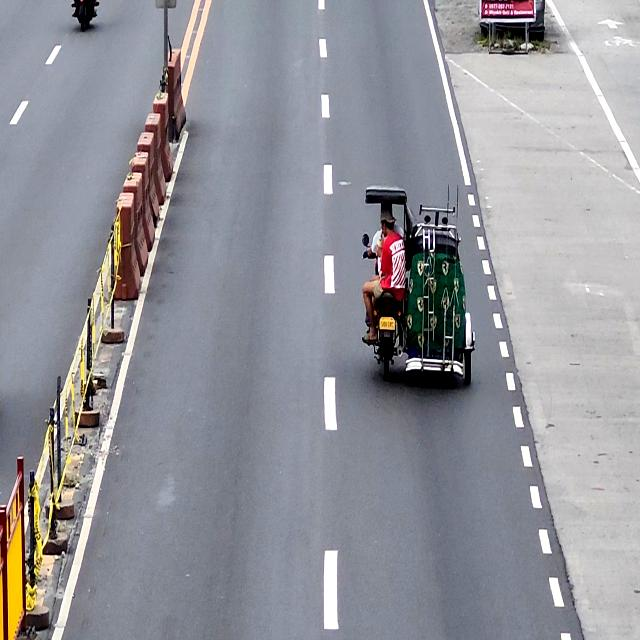License-Plate: (380, 316, 396, 332)
Tricycle: (362, 183, 476, 386)
